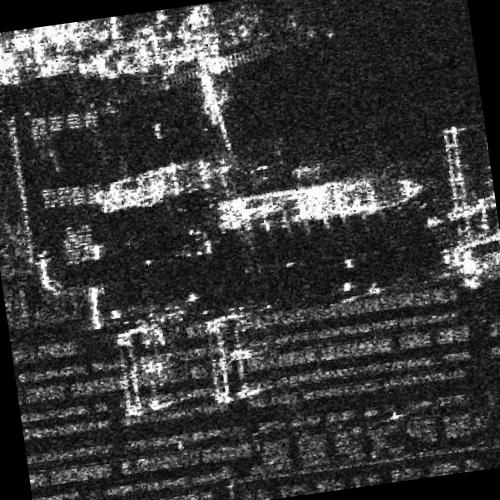ship: (217, 175, 426, 234)
